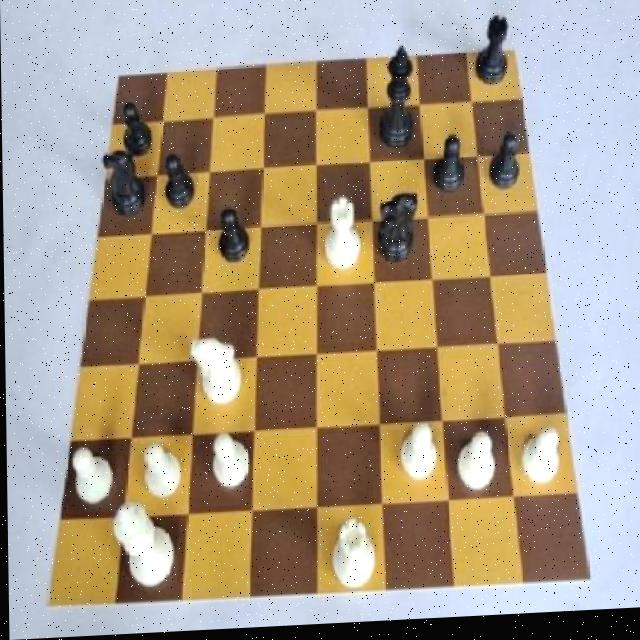black-bishop: (376, 48, 420, 162)
black-king: (373, 188, 420, 275), (100, 150, 148, 224)
black-knight: (429, 136, 473, 204), (210, 204, 252, 270), (159, 151, 199, 220), (487, 136, 526, 200), (118, 99, 154, 168)
black-queen: (473, 15, 516, 97)
white-bishop: (109, 493, 177, 601)
white-king: (189, 333, 244, 416)
white-knight: (62, 443, 114, 518), (137, 440, 187, 506), (450, 434, 500, 499), (202, 433, 251, 499), (518, 431, 566, 497), (394, 426, 437, 492)
white-queen: (324, 520, 377, 598), (318, 196, 363, 280)
